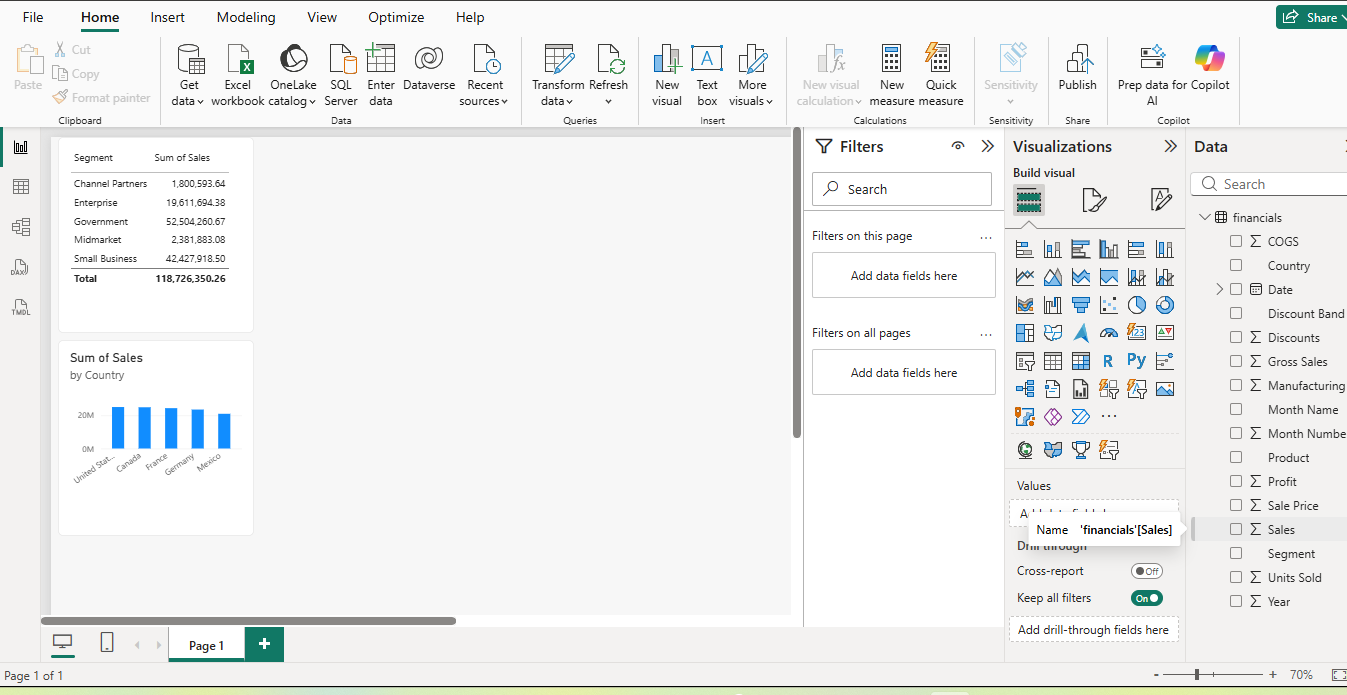

What the dashboard file says about the page in this screenshot:
{"tool":"powerbi","page":{"name":"Page 1","canvas":[1920,1080],"ordinal":0},"visuals":[{"type":"clusteredColumnChart","fields":{"Category":["financials.Country"],"Y":["Sum(financials.Sales)"]},"box":[10,290,280,280],"z":1},{"type":"tableEx","fields":{"Values":["financials.Segment","Sum(financials.Sales)"]},"box":[10,0,280,280],"z":2}]}

Visuals, with their boxes on the page's 1920x1080 design canvas (x1, y1, x2, y2). These are canvas units, not pixel positions in the 1347x695 screenshot, which may show the page scaled, cropped or inside an application window:
clusteredColumnChart - financials.Country x Sum(financials.Sales): {"x1": 10, "y1": 290, "x2": 290, "y2": 570}
tableEx - financials.Segment x Sum(financials.Sales): {"x1": 10, "y1": 0, "x2": 290, "y2": 280}
